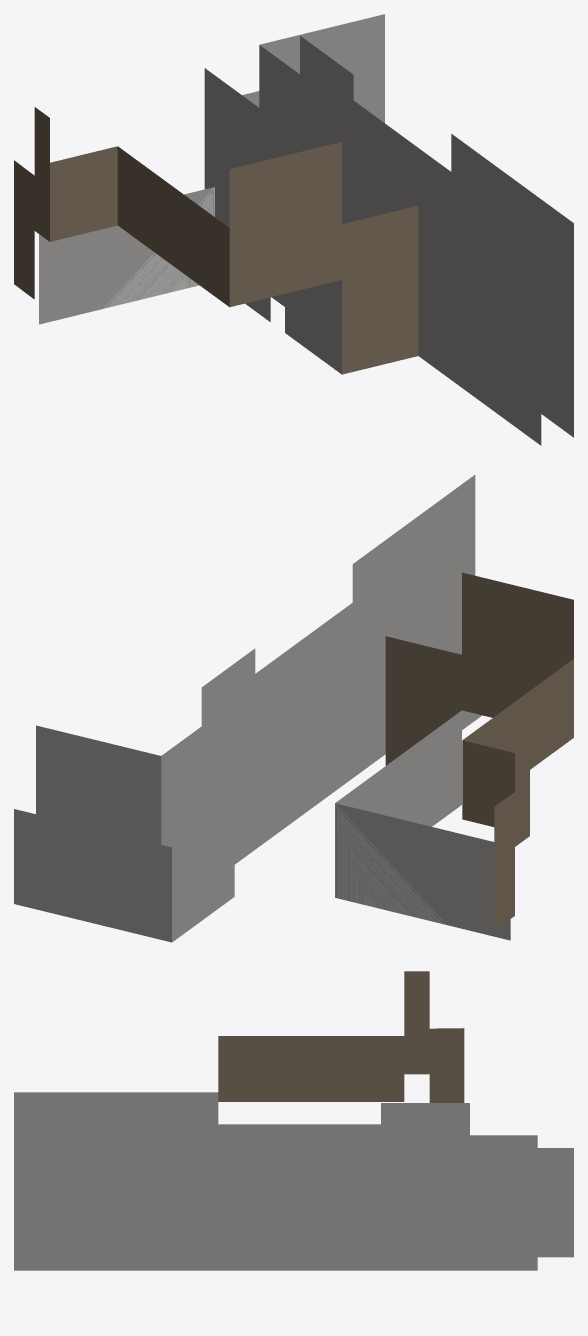
File: Paredes Edif UCX.fbx
3 views of the same model, one above another, from view 1: azimuth 30°, elevation 25°; view 2: azimuth 150°, elevation 25°; view 3: azimuth 270°, elevation 25° (orthographic). The views are drawn at different scales.
Parts seen in each view (by area): view 1: Plane.073, Plane.067, Plane.068, Plane.070, Plane.071, Plane.066, Plane.074, Plane.072, Plane.075, Plane.065, Plane.079, Plane.077 (+4 smaller); view 2: Plane.074, Plane.073, Plane.070, Plane.078, Plane.067, Plane.077, Plane.079, Plane.075, Plane.069, Plane.068, Plane.066, Plane.065 (+4 smaller); view 3: Plane.073, Plane.074, Plane.075, Plane.066, Plane.076, Plane.079, Plane.064, Plane.057.
Boxes of the visible parts, left/top/right/bottom form: Plane.073: left=451, top=134, right=573, bottom=437; Plane.067: left=229, top=142, right=341, bottom=306; Plane.068: left=342, top=205, right=418, bottom=374; Plane.070: left=39, top=187, right=214, bottom=324; Plane.071: left=418, top=206, right=479, bottom=400; Plane.066: left=117, top=146, right=229, bottom=306; Plane.074: left=353, top=101, right=451, bottom=229; Plane.072: left=479, top=300, right=541, bottom=445; Plane.075: left=300, top=36, right=353, bottom=223; Plane.065: left=50, top=146, right=117, bottom=241; Plane.079: left=204, top=68, right=267, bottom=197; Plane.077: left=259, top=14, right=384, bottom=122; Plane.074: left=255, top=603, right=352, bottom=849; Plane.073: left=352, top=475, right=475, bottom=777; Plane.070: left=335, top=803, right=510, bottom=940; Plane.078: left=14, top=809, right=171, bottom=942; Plane.067: left=462, top=572, right=573, bottom=717; Plane.077: left=36, top=725, right=161, bottom=844; Plane.079: left=172, top=765, right=234, bottom=942; Plane.075: left=201, top=648, right=255, bottom=864; Plane.069: left=335, top=710, right=461, bottom=826; Plane.068: left=385, top=636, right=461, bottom=765; Plane.066: left=463, top=659, right=573, bottom=769; Plane.065: left=462, top=740, right=514, bottom=826; Plane.073: left=14, top=1092, right=218, bottom=1270; Plane.074: left=218, top=1124, right=380, bottom=1270; Plane.075: left=381, top=1103, right=469, bottom=1270; Plane.066: left=218, top=1036, right=404, bottom=1101; Plane.076: left=470, top=1135, right=537, bottom=1270; Plane.079: left=537, top=1148, right=573, bottom=1257; Plane.064: left=404, top=971, right=429, bottom=1074; Plane.057: left=429, top=1028, right=464, bottom=1102.
Bounding box in the file's own units: 6618 × 3549 × 9297.
